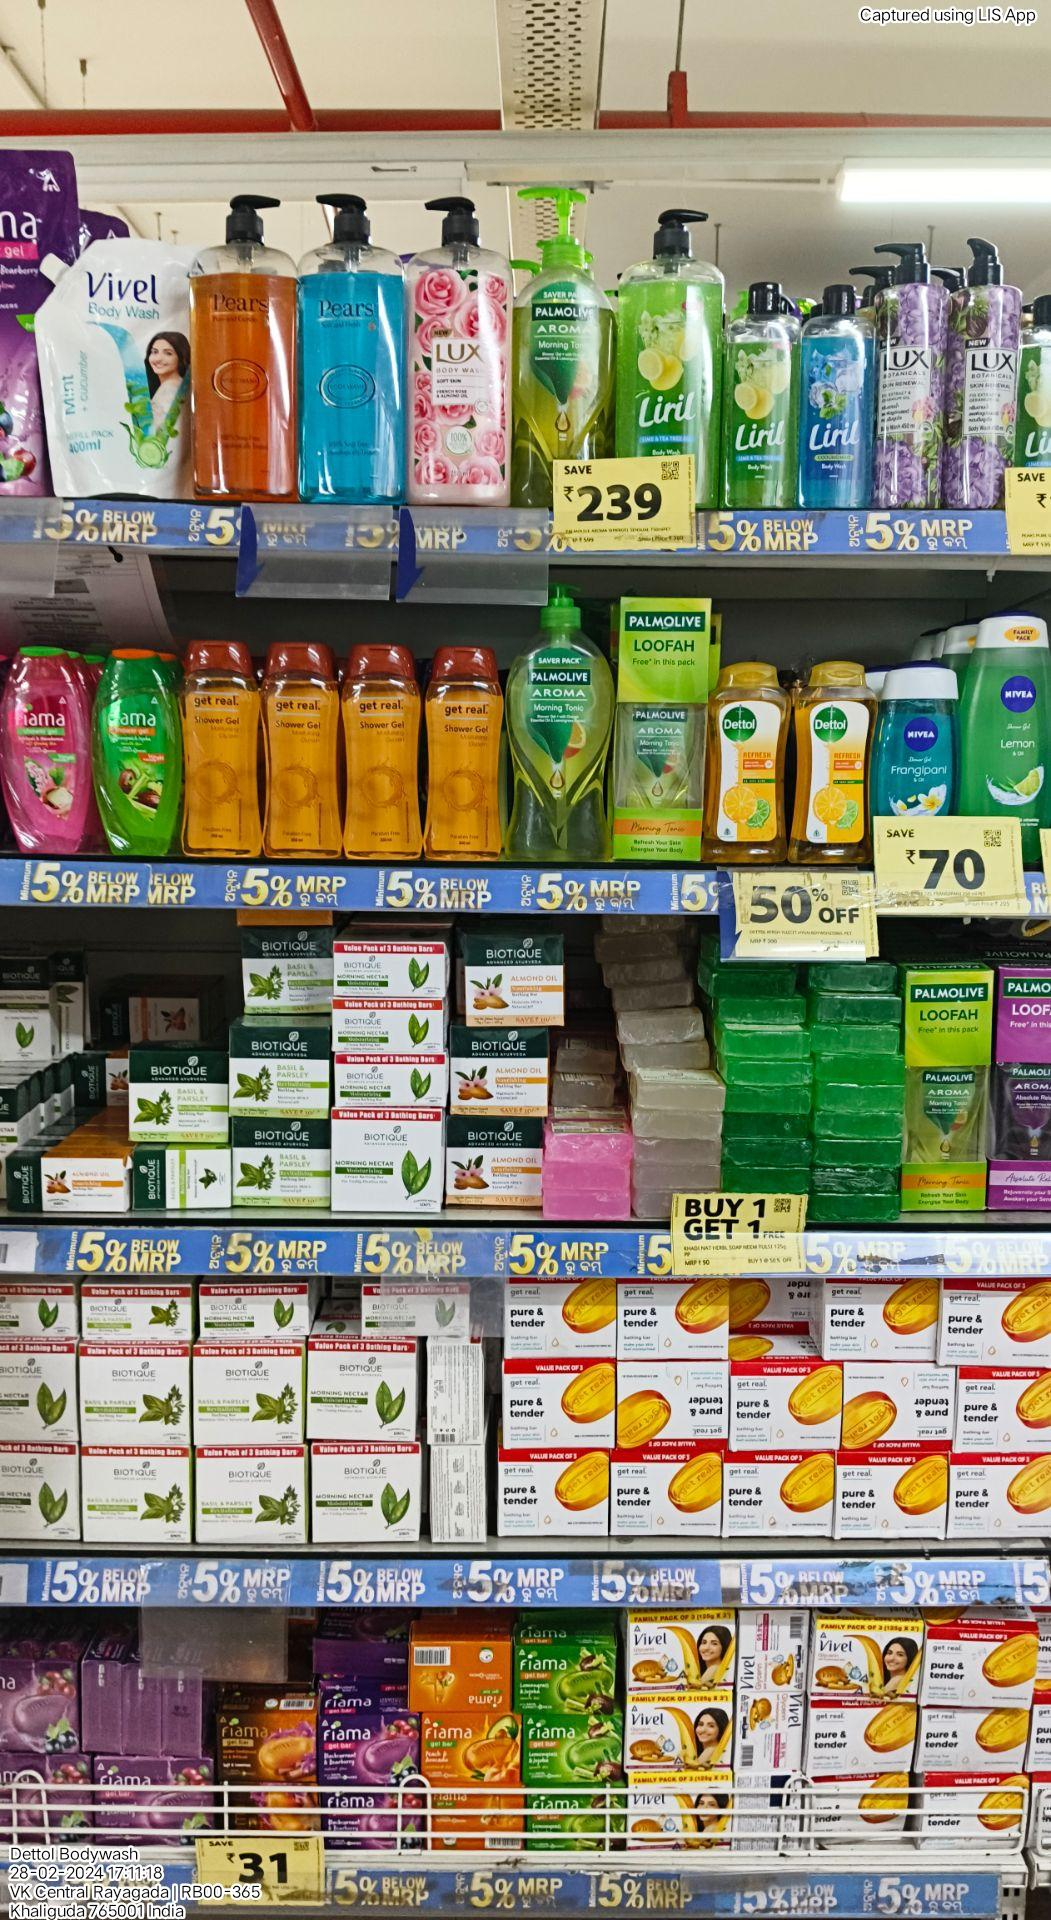Dettol_Bodywash_Refresh: (795, 657, 870, 866), (707, 664, 784, 862)
Fiama_Shower_Gel_Lemongrass_and_Jojoba_250ML: (98, 651, 177, 856)
Fiama_Shower_Gel_Patchouli_and_Macadamia_250ML: (4, 646, 87, 854)
Get_Real_Shower_Gel_Moisturising_Glycerin_300ML: (264, 637, 343, 860), (180, 638, 258, 859), (348, 640, 423, 860), (428, 643, 502, 862)
Liril_Cooling_Mint_Body_Wash_250ML: (804, 281, 875, 514)
Liril_Lime_and_Tea_Tree_Oil_Body_Wash_250ML: (724, 281, 793, 510)
Nivea_Shower_Gel_Frangipani_and_Oil_250ML: (878, 655, 962, 819)
Nivea_Shower_Gel_Lemon_and_Oil_250ML: (966, 613, 1051, 856)
